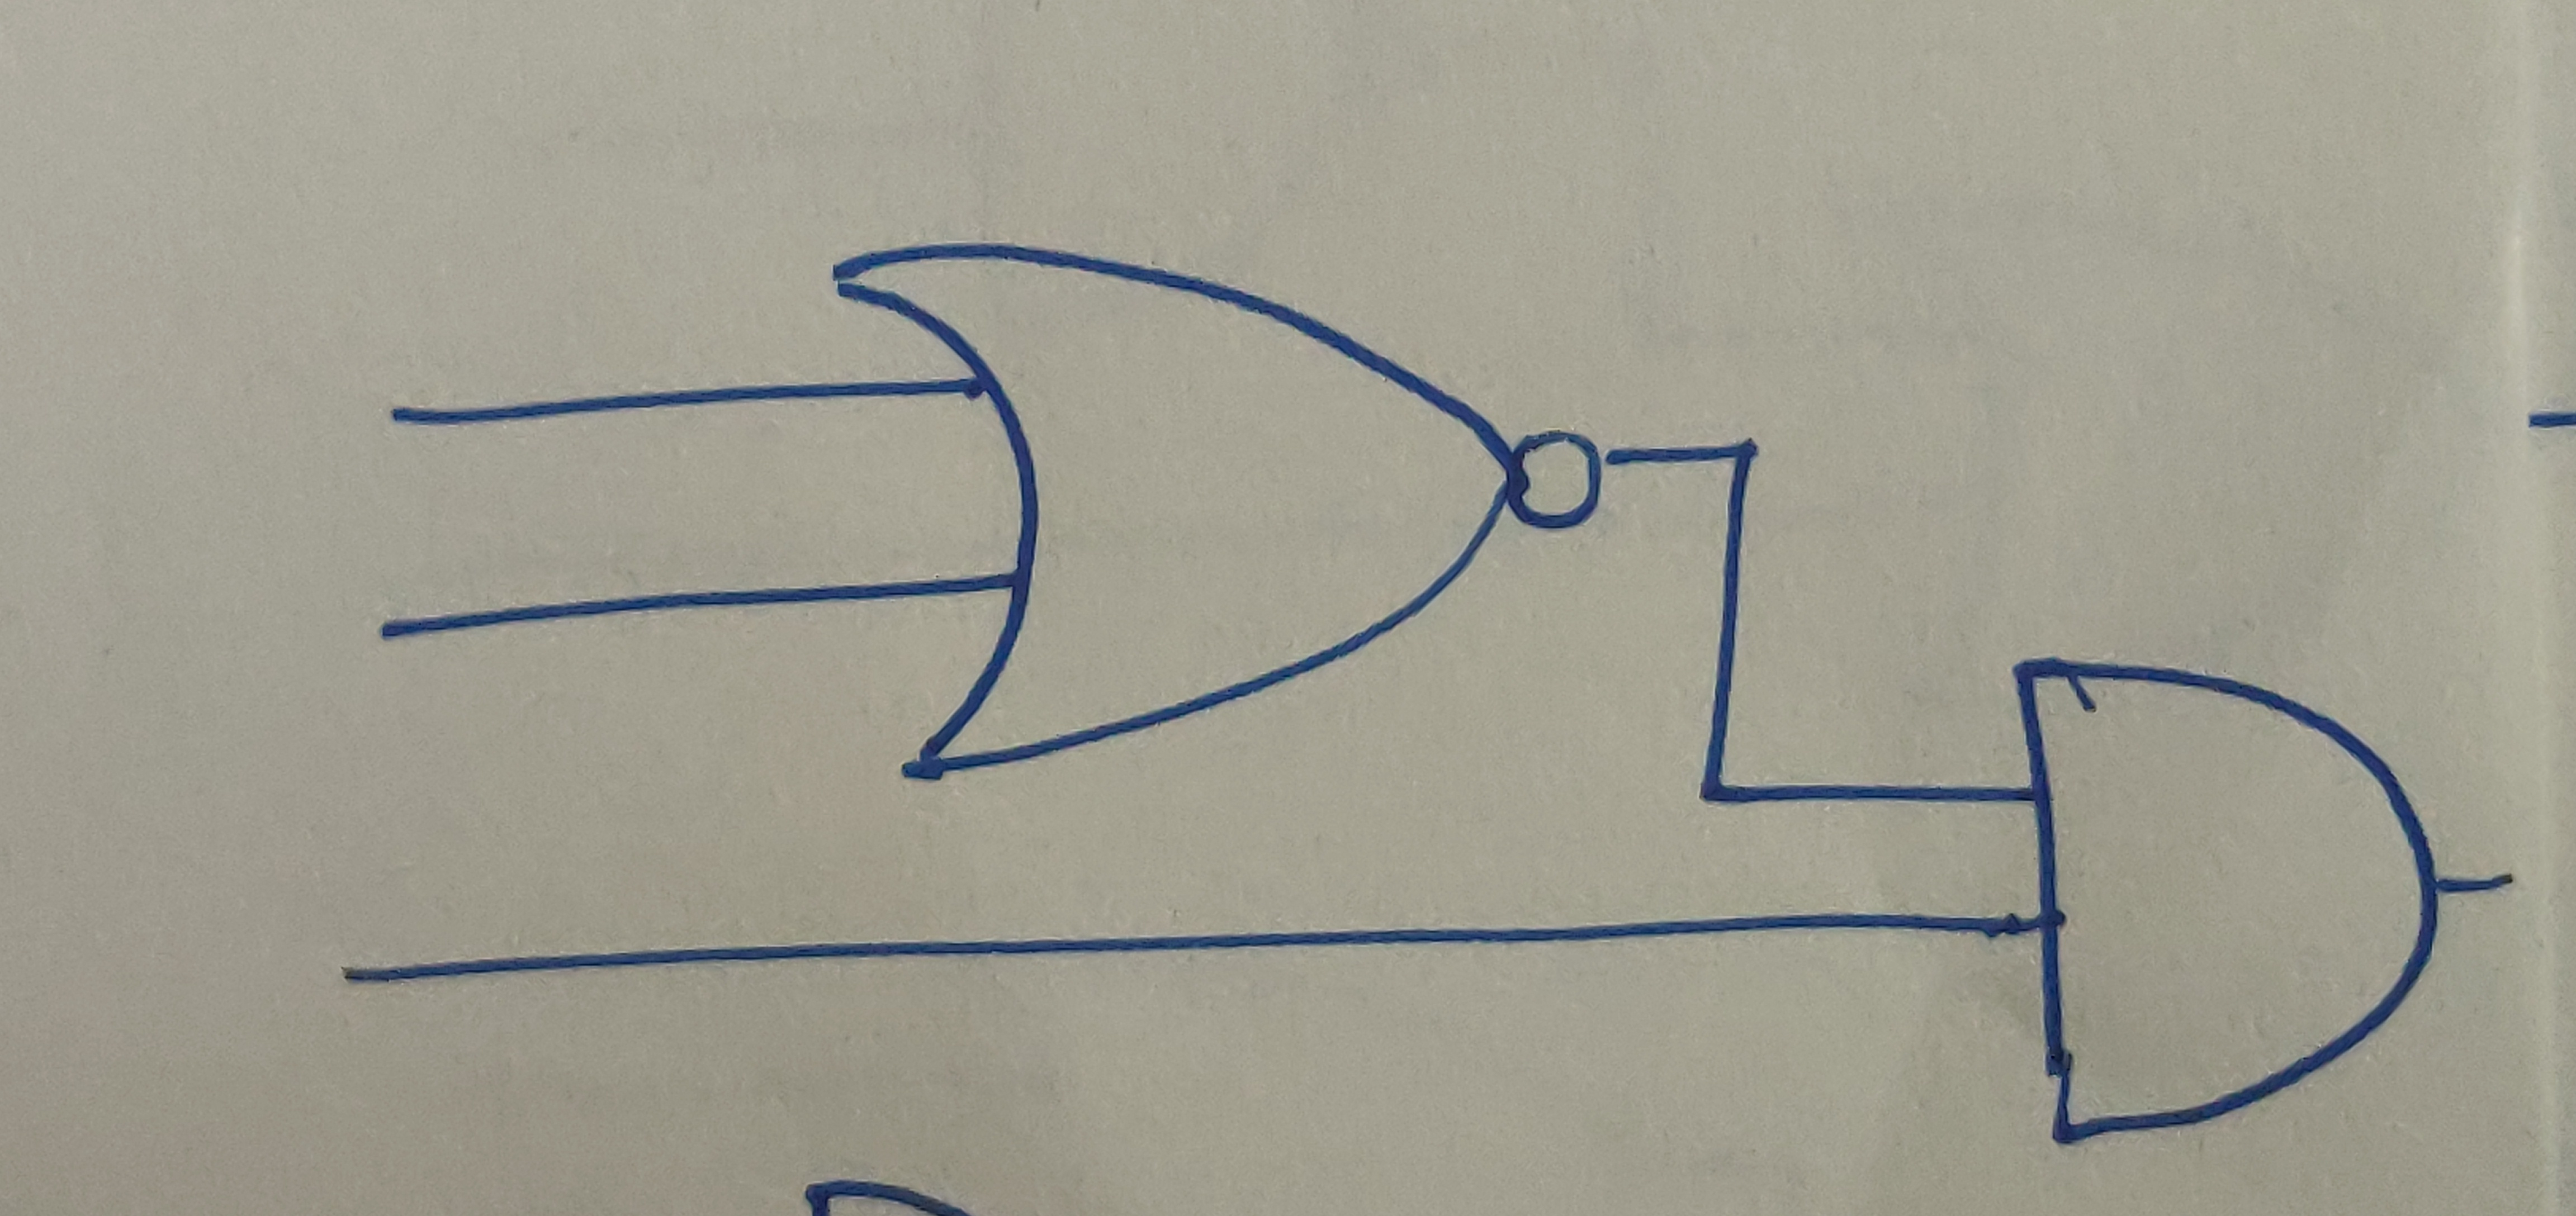and: (2011, 654, 2448, 1144)
not: (1505, 417, 1610, 549)
or: (828, 243, 1525, 785)
